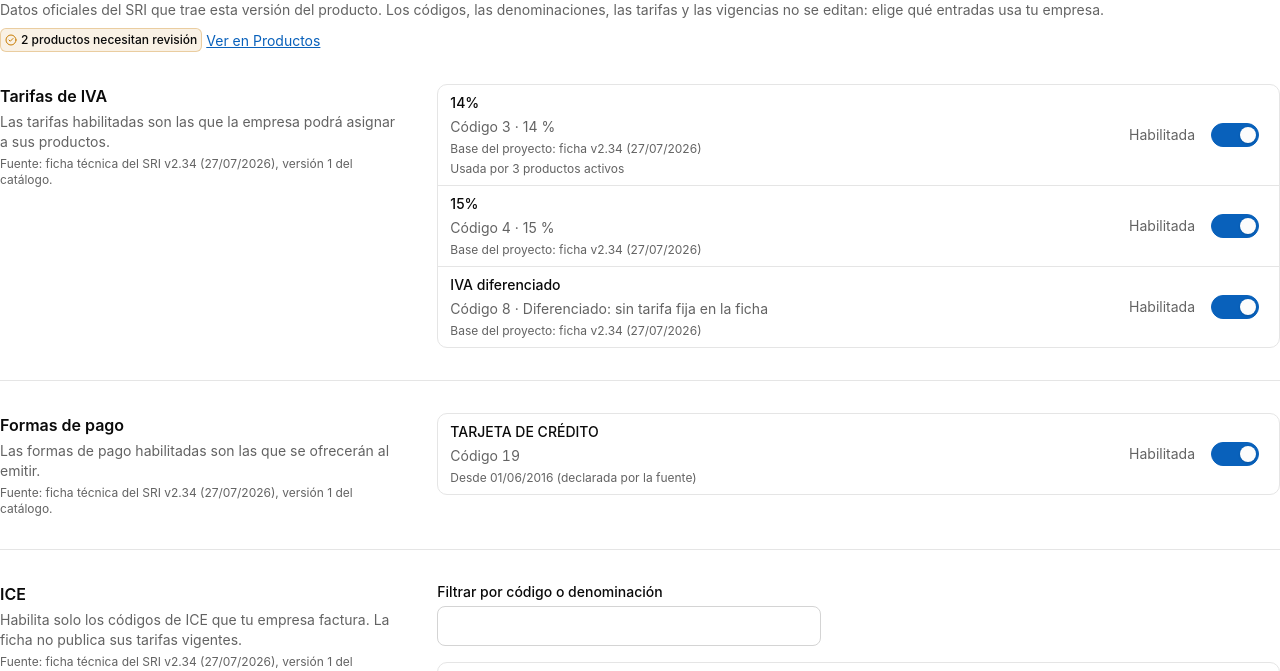
Test: Catálogos fiscales con productos (add-parties-and-products, design D17) › deshabilitar una entrada en uso pide confirmación; cancelar no cambia nada
This screenshot has width=1280, height=671.
Expected: the text "Usada por 3 productos activos" is shown, [450,161,624,176]
Click the switch named "14%" in the row of "· 14 %" at [1235, 135], box [1203,115,1267,155]
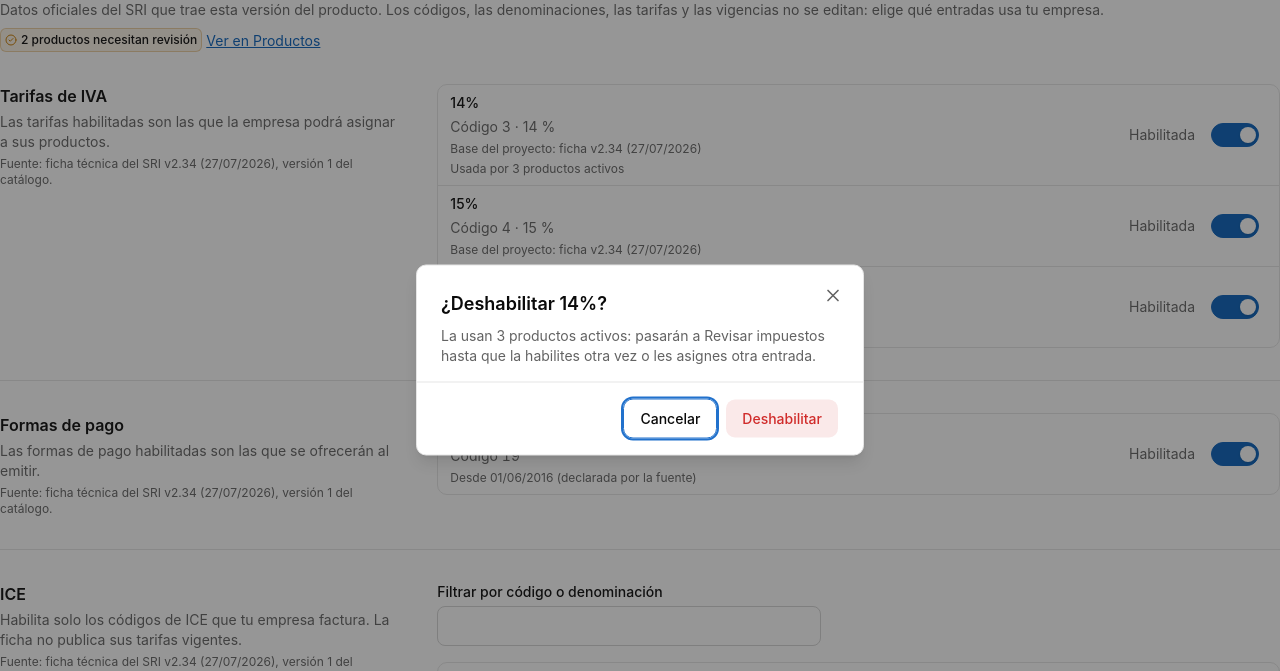
Expected: the text "La usan 3 productos activos: pasarán a Revisar impuestos" is shown, [441,326,825,364]
Click the button "Cancelar" at [670, 418], box [624,398,717,438]
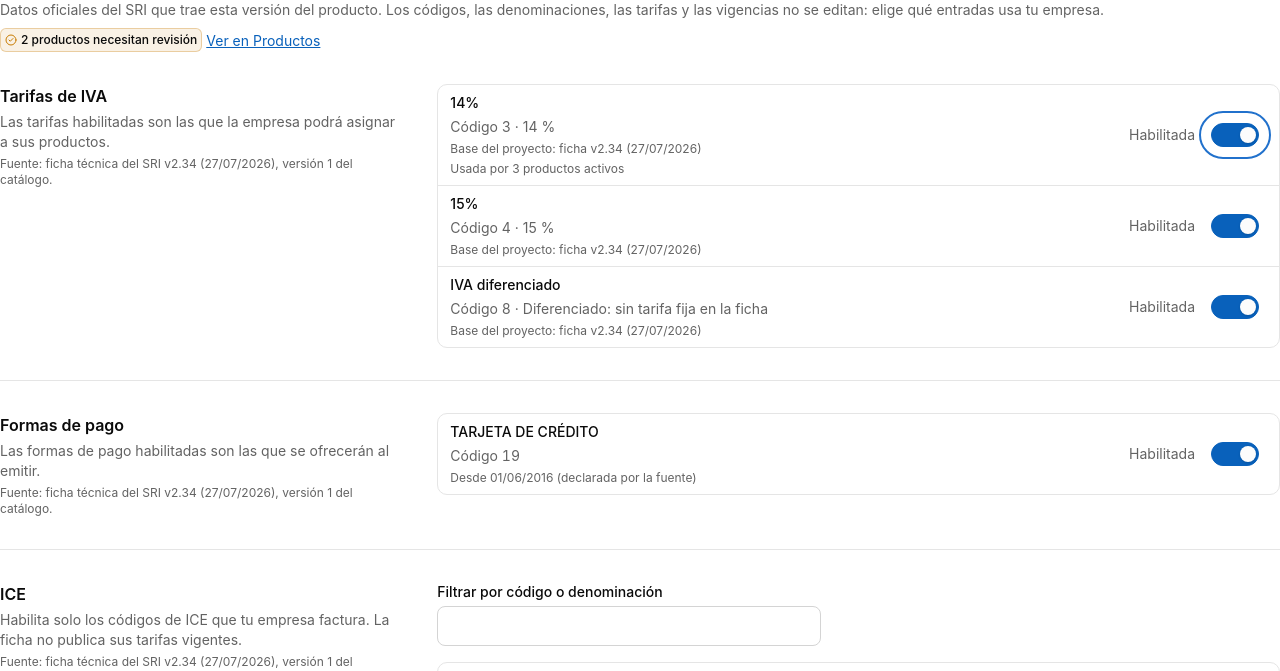
Expected: the dialog is gone
